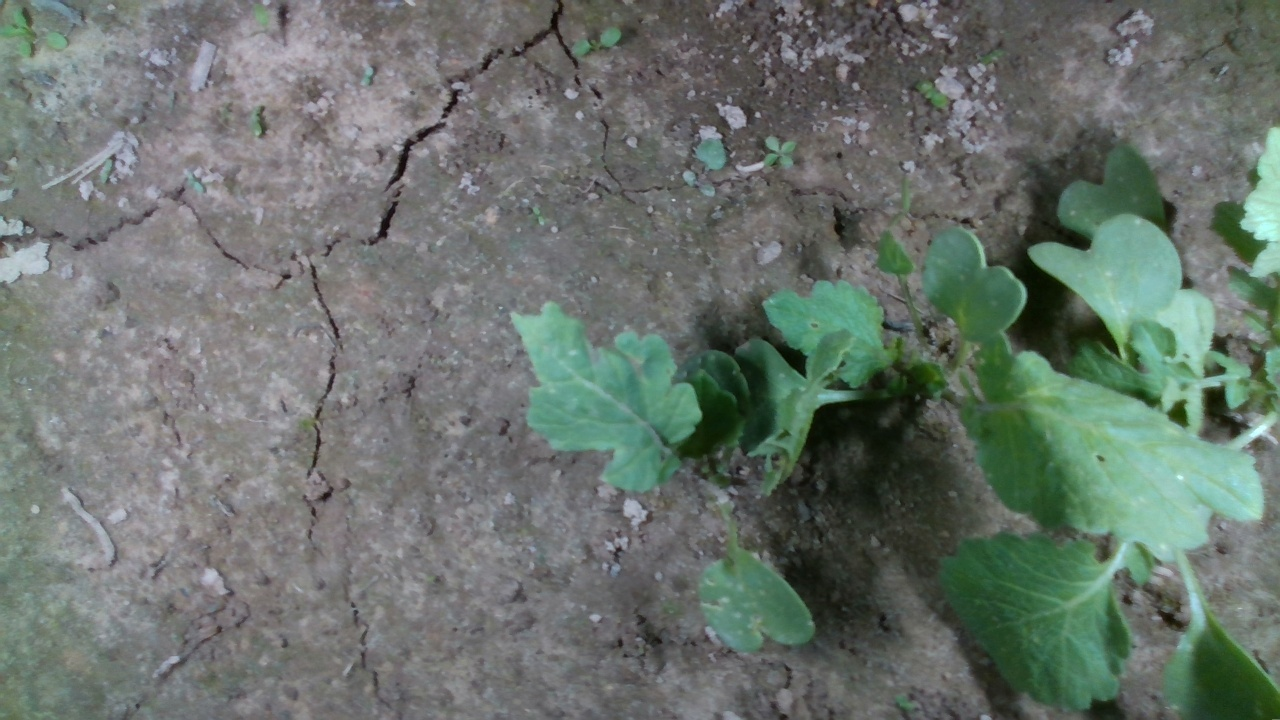weed: (570, 24, 622, 58), (760, 131, 800, 169), (913, 77, 951, 111)
